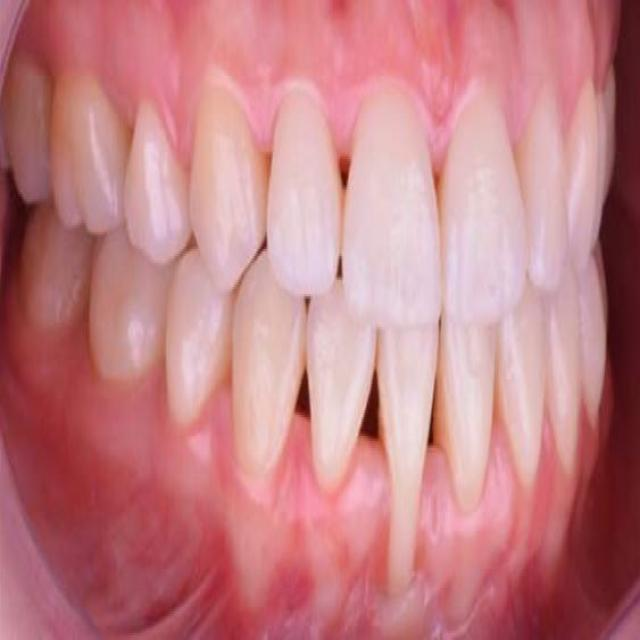1st Molar: (49, 66, 125, 237), (88, 243, 165, 389)
1st Premolar: (165, 244, 232, 431), (122, 97, 192, 268), (579, 257, 609, 421)
2nd Molar: (23, 204, 98, 334), (1, 52, 48, 201)
Canine: (232, 254, 308, 486), (190, 85, 266, 294), (545, 274, 582, 486), (566, 81, 602, 265)
Central Incisor: (342, 92, 442, 332), (441, 95, 530, 325), (377, 332, 439, 590), (434, 319, 496, 512)
Lateral Incisor: (266, 88, 343, 299), (306, 289, 379, 498), (517, 85, 571, 294), (497, 284, 547, 495)
